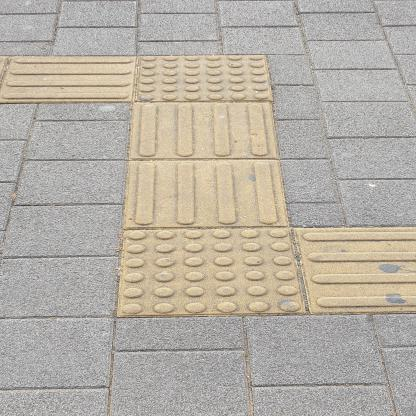podotacti: (0, 50, 415, 322)
